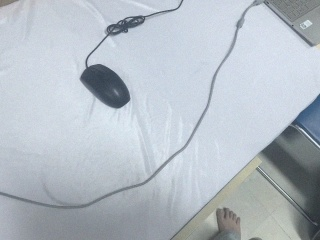mouse: (79, 62, 132, 109)
